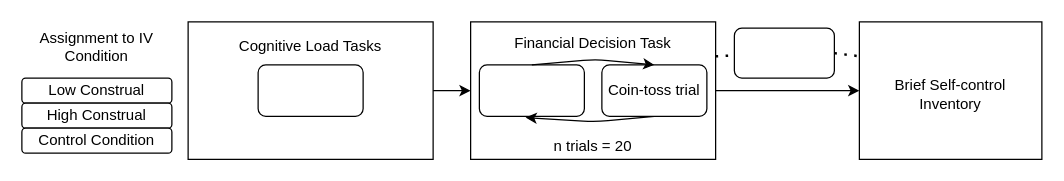
This 1064x181 diagram has some shape labels left out. The centre of each missing label's shape, as x and y in pixels:
"Coin-toss lottery (prob 0.2)" belongs at [783,52].
"Construal Cue" belongs at [531,90].
"Stroop Task" belongs at [310,90].
